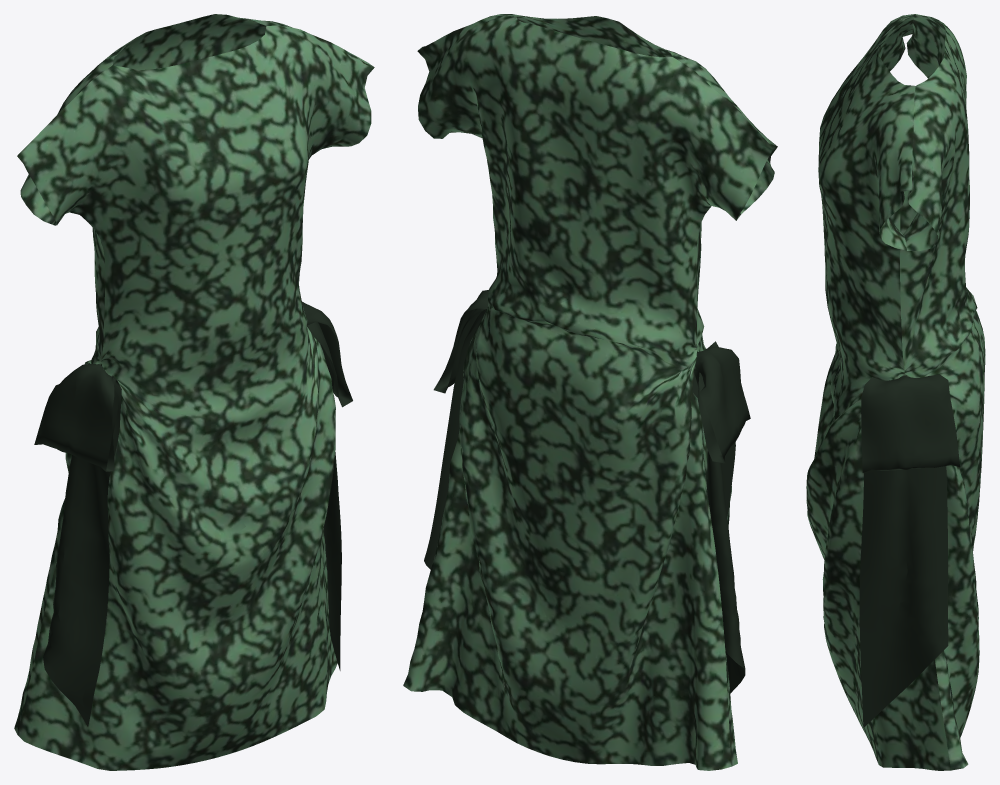
File: aethelraed-flapper-dress.glb
3 renders of one model, left to right at view 1: azimuth 30°, elevation 25°; view 2: azimuth 150°, elevation 25°; view 3: azimuth 270°, elevation 25°, orthographic. The views are drawn at different scales.
Parts seen in each view (by area): view 1: flapper dress; view 2: flapper dress; view 3: flapper dress.
Boxes of the visible parts, x1,y1,x2,y2 form: flapper dress: (14, 14, 374, 770); flapper dress: (403, 14, 777, 770); flapper dress: (806, 14, 985, 770).
Size of the model in its own units: 60.3 by 116 by 27.45.
1 material, 1 textured.
